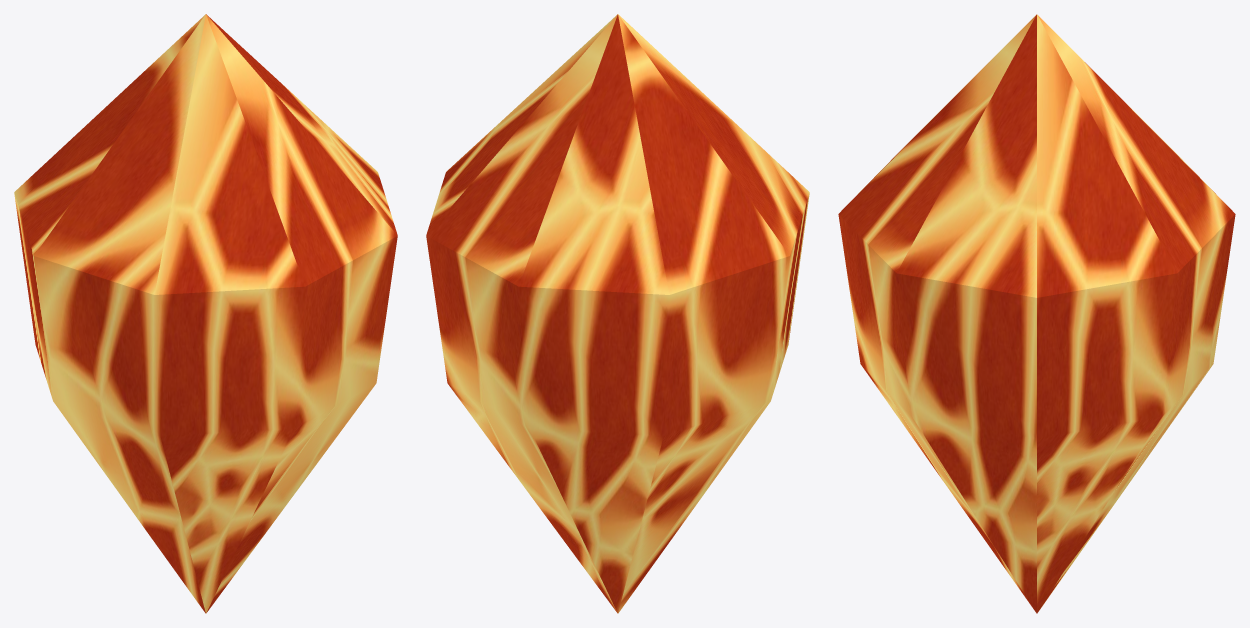
Rendered from lb4_lavadrop.glb.
3 renders of one model, left to right at view 1: azimuth 30°, elevation 25°; view 2: azimuth 150°, elevation 25°; view 3: azimuth 270°, elevation 25°, orthographic.
Parts seen in each view (by area): view 1: lb4_lavadrop; view 2: lb4_lavadrop; view 3: lb4_lavadrop.
Boxes of the visible parts, x1,y1,x2,y2 form: lb4_lavadrop: [14, 14, 397, 613]; lb4_lavadrop: [426, 14, 809, 613]; lb4_lavadrop: [838, 14, 1235, 613].
Size of the model in its own units: 0.36 by 0.6 by 0.36.
Materials: 1 (1 with a texture image).
